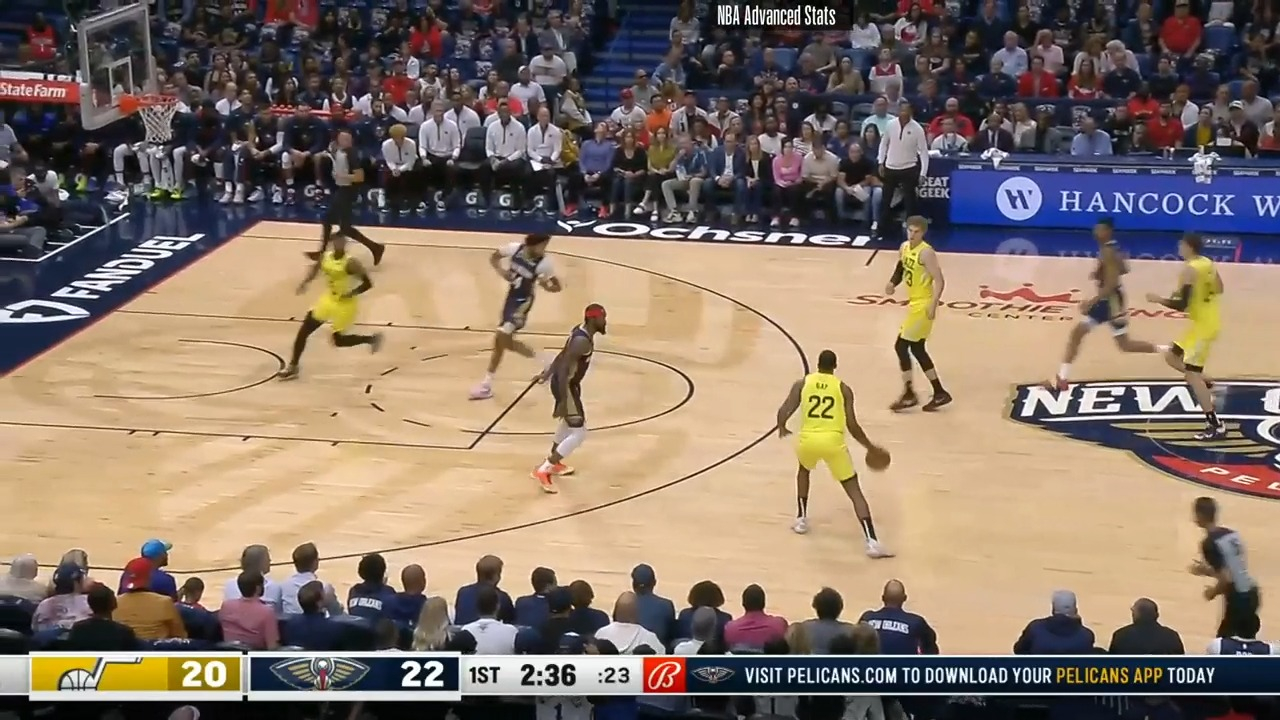net: (118, 87, 181, 144)
player: (1042, 217, 1177, 409), (778, 346, 895, 560), (1145, 229, 1227, 444), (466, 229, 557, 403), (534, 304, 616, 495), (280, 231, 382, 383), (880, 215, 953, 418)
referee: (1183, 494, 1279, 646), (308, 126, 377, 263)
